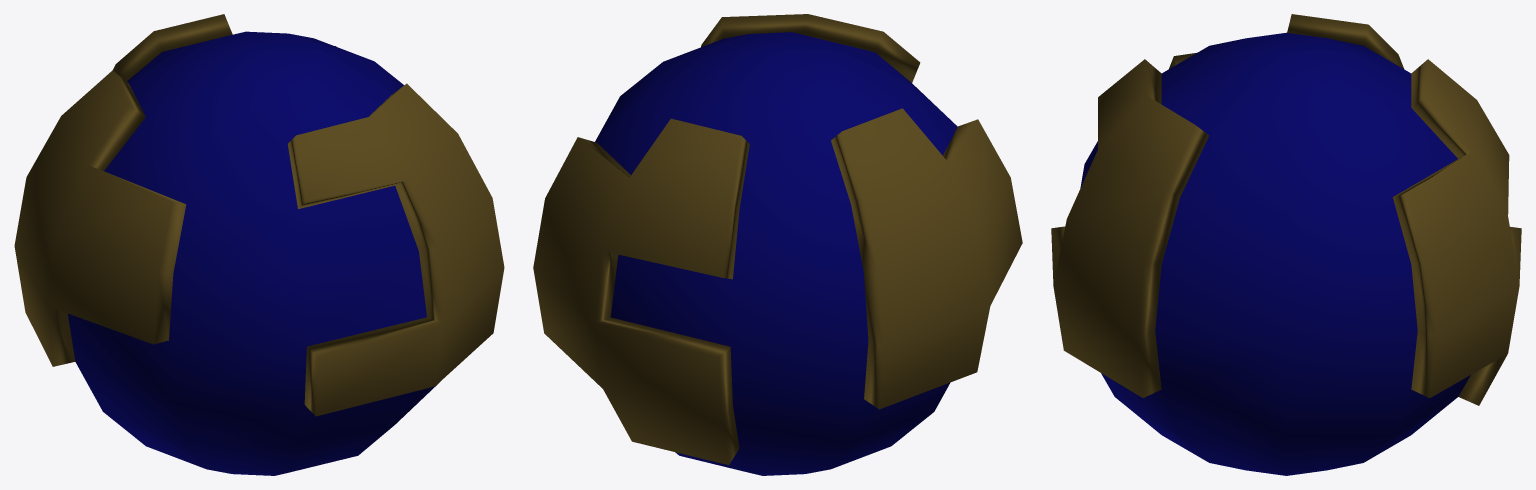
The model's file is planet04.fbx.
3 renders of one model, left to right at view 1: azimuth 30°, elevation 25°; view 2: azimuth 150°, elevation 25°; view 3: azimuth 270°, elevation 25°, orthographic.
Parts seen in each view (by area): view 1: planet5; view 2: planet5; view 3: planet5.
Boxes of the visible parts, box(x1,y1,x2,y2) form: planet5: box(14, 14, 504, 475); planet5: box(533, 14, 1022, 475); planet5: box(1051, 14, 1521, 475).
Size of the model in its own units: 4.83 by 4.6 by 4.85.
